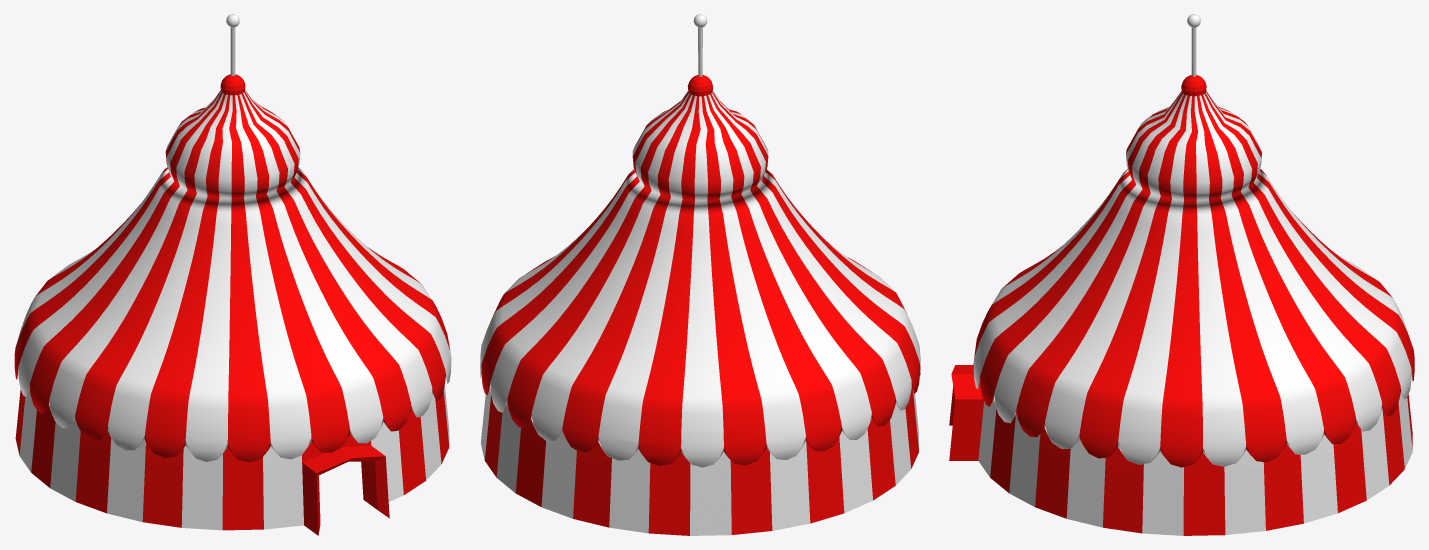
Rendered from Circo.fbx.
The picture shows the model from 3 angles, left to right: view 1: azimuth 30°, elevation 25°; view 2: azimuth 150°, elevation 25°; view 3: azimuth 270°, elevation 25°; orthographic projection.
Visible parts, largest first — view 1: Carpa Circo; view 2: Carpa Circo; view 3: Carpa Circo.
Part boxes in pixels (x1,y1,x2,y2): Carpa Circo: [14, 14, 451, 535]; Carpa Circo: [480, 14, 920, 535]; Carpa Circo: [949, 14, 1414, 535].
Bounding box in the file's own units: 397 × 425 × 419.
